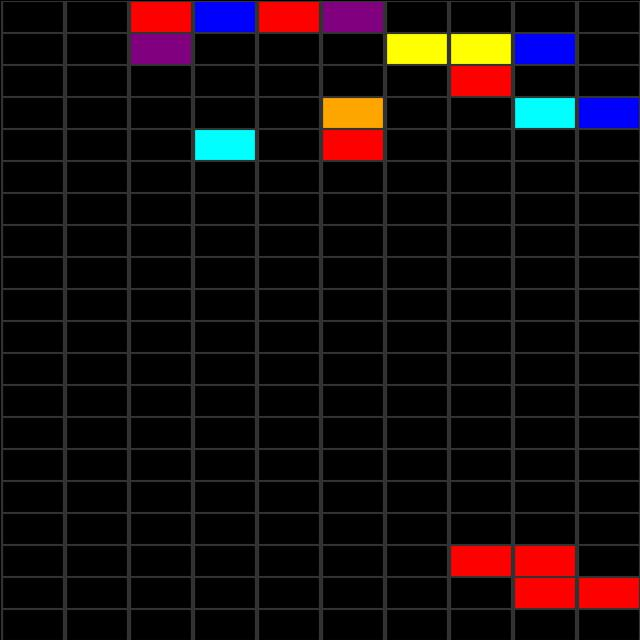Tetrimino_T: (449, 543, 636, 607)
